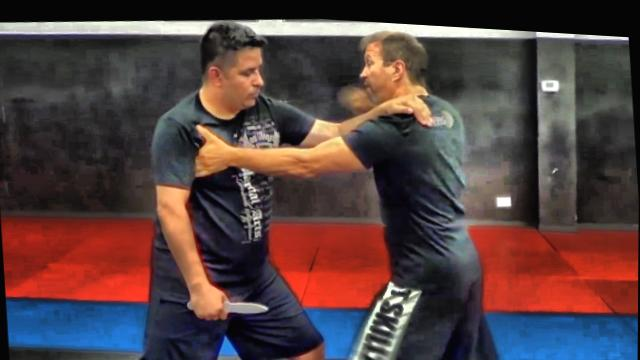knife: (185, 289, 271, 322)
